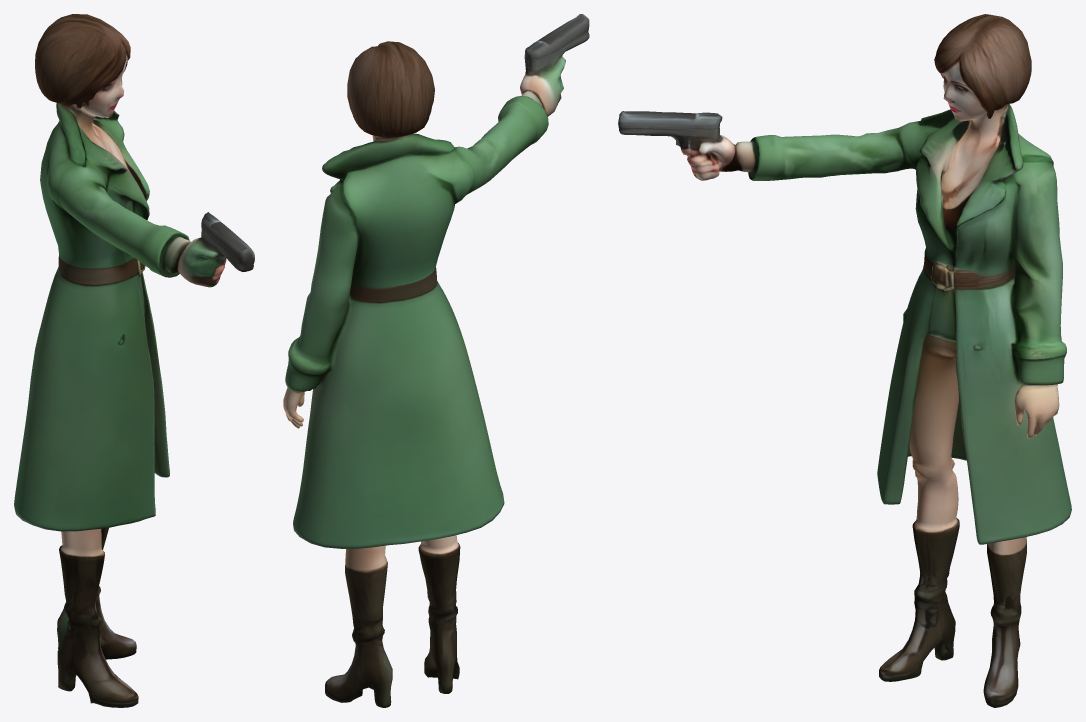
Rendered from vera_raw4.glb.
3 views of the same model, side by side, from view 1: azimuth 30°, elevation 25°; view 2: azimuth 150°, elevation 25°; view 3: azimuth 270°, elevation 25° (orthographic).
Visible parts, largest first — view 1: model; view 2: model; view 3: model.
Boxes of the visible parts, x1,y1,x2,y2 form: model: (14, 14, 254, 707); model: (283, 14, 589, 707); model: (618, 14, 1071, 707).
Size of the model in its own units: 0.5045 by 1.9 by 1.18.
Materials: 1 (1 with a texture image).
